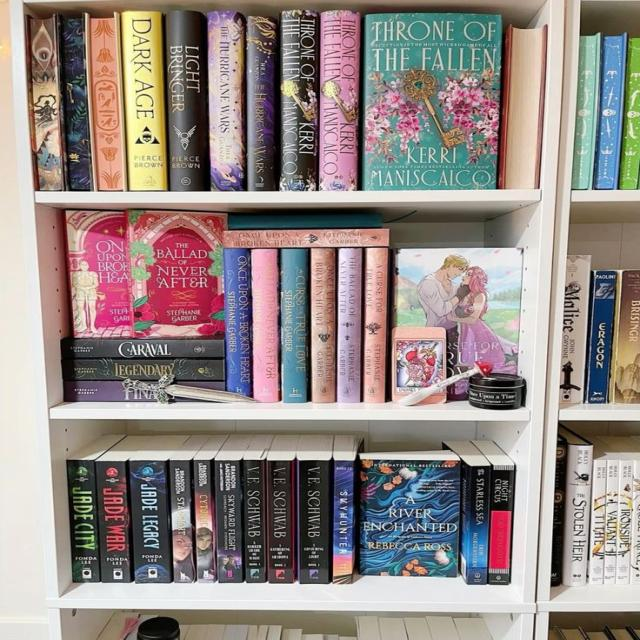book: (122, 11, 168, 190), (164, 13, 205, 190), (24, 16, 65, 191), (88, 13, 127, 190), (320, 11, 358, 190), (208, 12, 246, 191), (280, 10, 316, 191), (58, 14, 93, 190), (246, 16, 278, 191), (593, 34, 628, 190), (130, 460, 171, 584), (572, 34, 601, 190), (561, 255, 591, 403), (280, 249, 308, 402), (562, 445, 592, 586), (251, 250, 279, 400), (95, 462, 130, 582), (66, 460, 99, 582), (224, 250, 251, 398), (587, 270, 617, 403), (310, 249, 336, 402), (298, 460, 330, 583), (613, 270, 640, 404), (214, 460, 243, 583), (338, 248, 360, 402), (487, 465, 515, 585), (62, 360, 224, 380), (267, 460, 293, 583), (223, 229, 389, 248), (365, 248, 385, 402), (63, 382, 224, 401), (243, 459, 267, 583), (171, 460, 195, 583), (61, 340, 224, 358), (332, 460, 354, 585), (468, 466, 491, 584), (194, 460, 215, 583), (589, 460, 606, 584), (226, 216, 383, 229), (616, 461, 632, 584), (605, 461, 618, 585)
